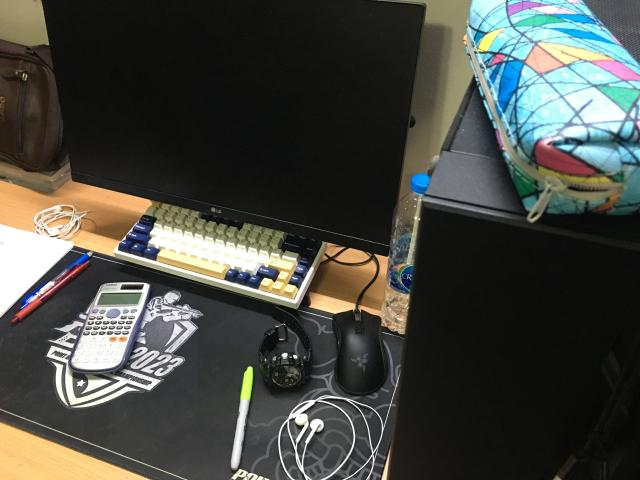Mouse: (332, 310, 388, 395)
Pen: (11, 251, 92, 324), (231, 366, 254, 470)
Watch: (259, 308, 312, 390)
bottle: (381, 174, 429, 334)
paper: (0, 225, 74, 316)
wire: (278, 395, 386, 480), (34, 205, 90, 239)
